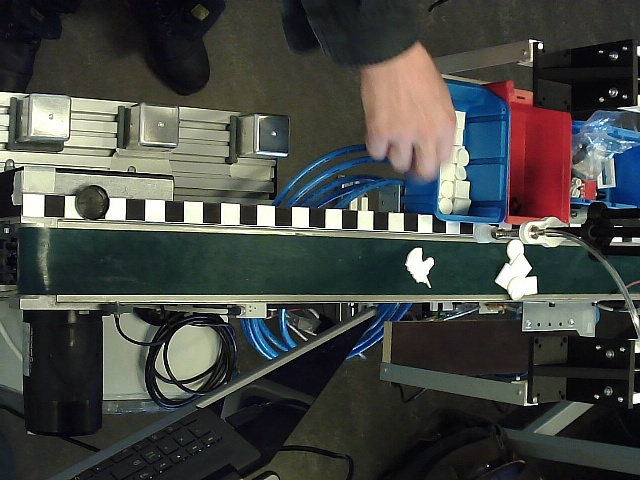unicorn: (404, 247, 436, 289)
